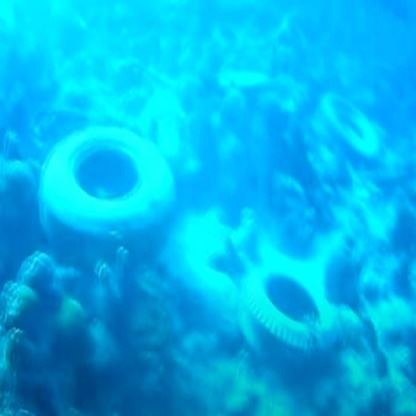tire: (32, 87, 175, 284), (323, 80, 401, 205), (242, 244, 326, 359)
